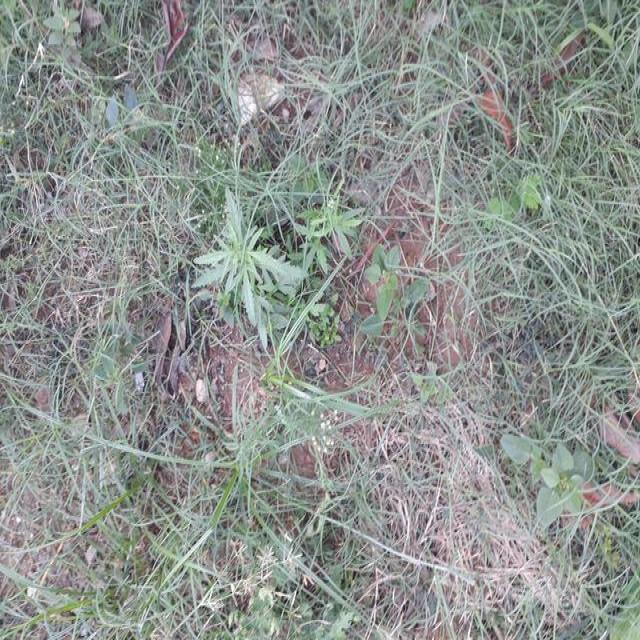weed: (30, 368, 347, 640), (20, 20, 148, 123), (216, 168, 294, 325), (501, 414, 602, 516), (481, 168, 567, 255), (308, 178, 366, 292), (375, 252, 419, 330)
